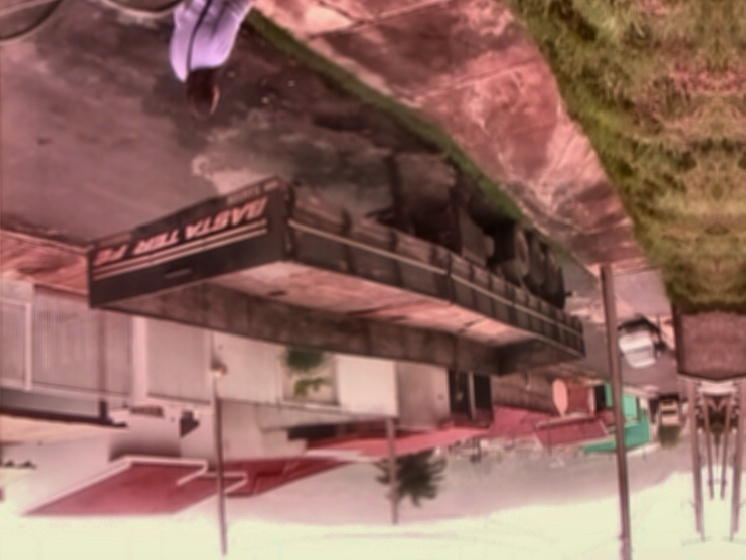person: (168, 0, 260, 120)
